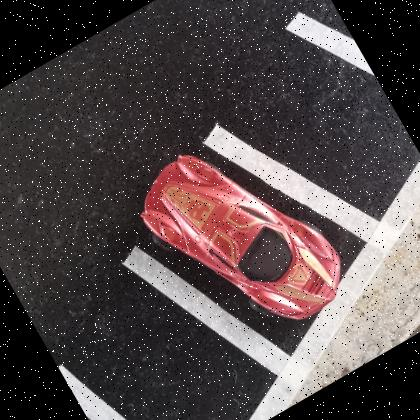Car: (142, 155, 342, 321)
